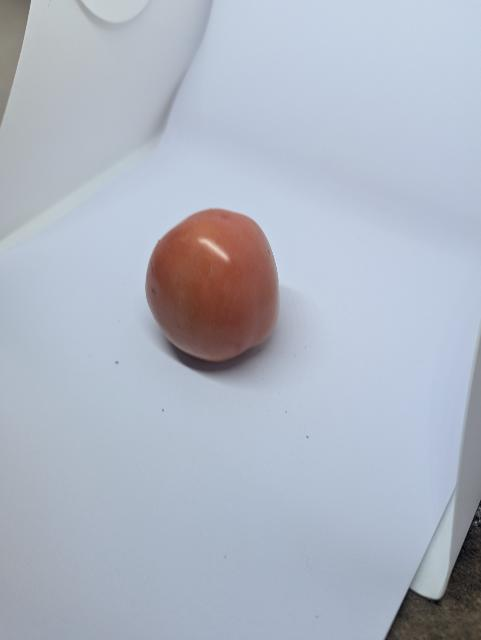red: (132, 198, 311, 381)
